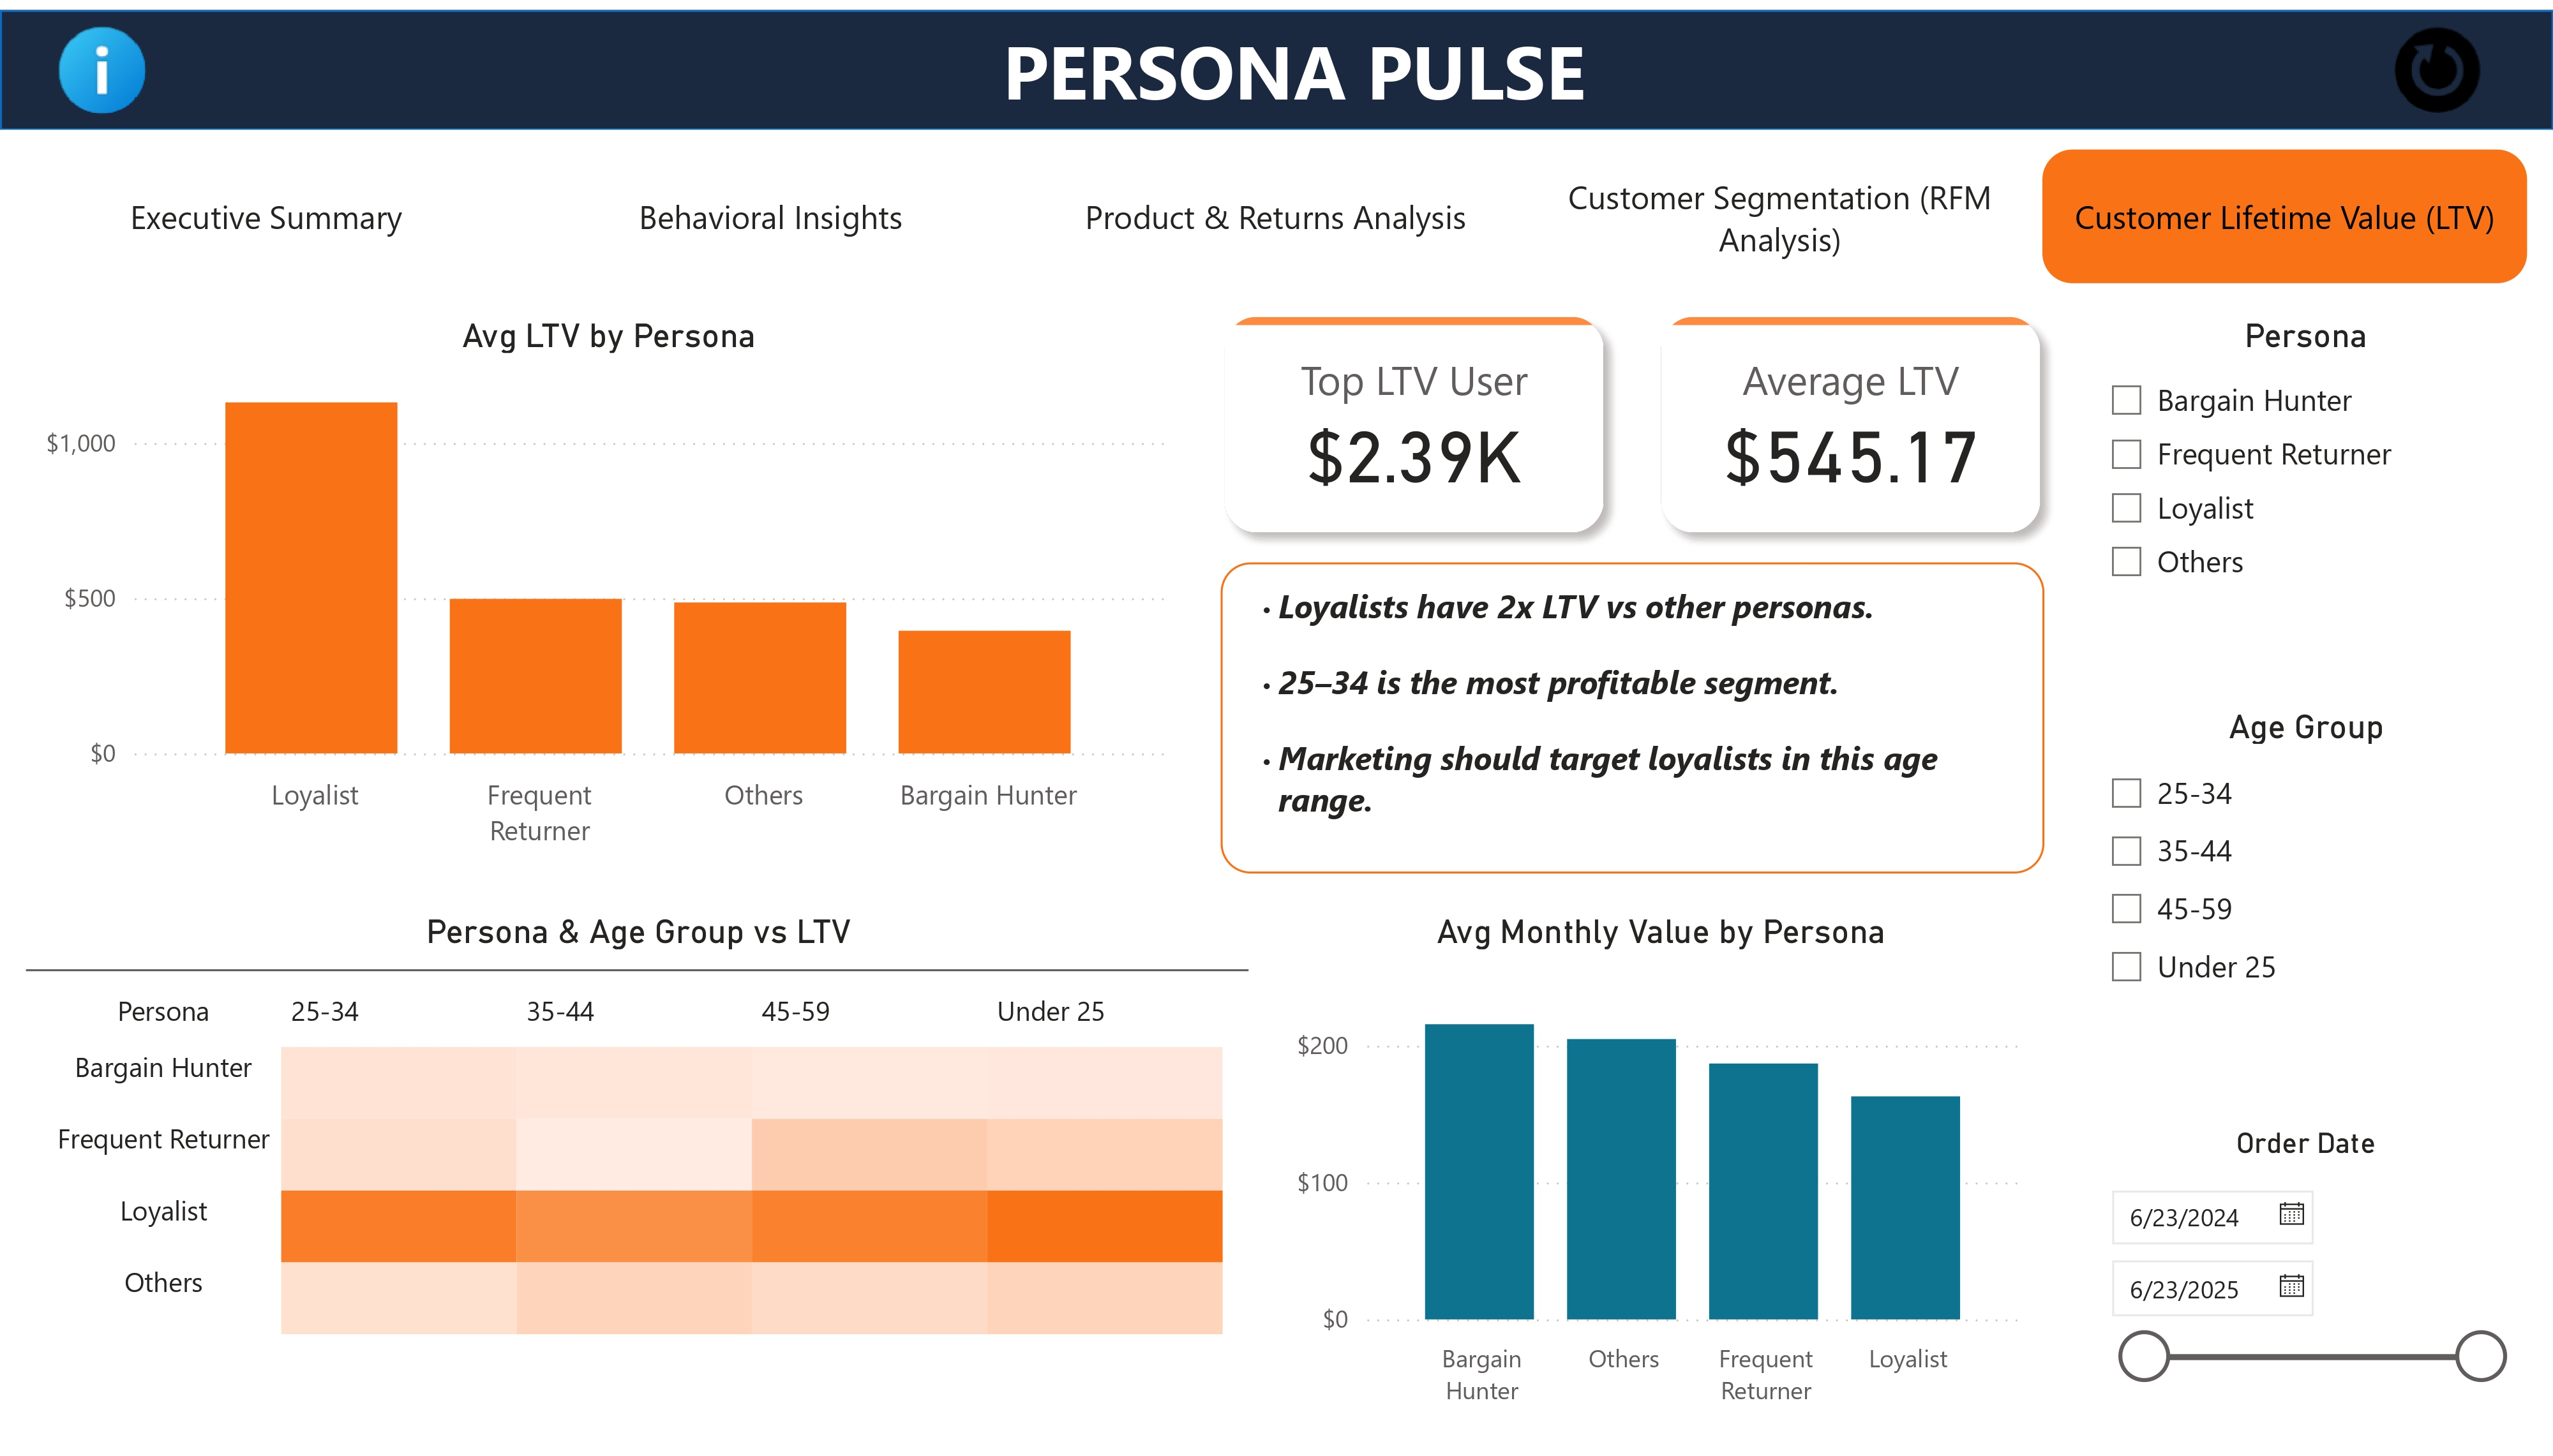

What the dashboard file says about the page in this screenshot:
{"tool":"powerbi","page":{"name":"Customer Lifetime Value (LTV)","canvas":[1280,720],"ordinal":4},"visuals":[{"type":"slicer","title":"Persona","fields":{"Values":["users.persona"]},"box":[1040.1,146.8,230.5,179.8],"z":0},{"type":"slicer","title":"Order Date","fields":{"Values":["orders.order_date"]},"box":[1040.1,554.4,230.5,159.2],"z":1000},{"type":"pivotTable","title":"Persona & Age Group vs LTV","fields":{"Rows":["users.persona"],"Columns":["users.Age Group"],"Values":["Avg(customer_ltv.lifetime_value)"]},"box":[12.3,446,614.8,267.6],"z":2000},{"type":"columnChart","title":"Avg LTV by Persona","fields":{"Category":["users.persona"],"Y":["Avg(customer_ltv.lifetime_value)"]},"box":[12.3,146.8,584.6,286.8],"z":3000},{"type":"slicer","title":"Age Group","fields":{"Values":["users.Age Group"]},"box":[1040.1,343.1,230.5,196.2],"z":4000},{"type":"cardVisual","fields":{"Data":["Max(customer_ltv.lifetime_value)","Avg(customer_ltv.lifetime_value)1"]},"box":[596.9,137.2,443.2,142.7],"z":5000},{"type":"columnChart","title":"Avg Monthly Value by Persona","fields":{"Category":["users.persona"],"Y":["Avg(customer_ltv.monthly_value)"]},"box":[639.5,446,385.6,267.6],"z":6000},{"type":"textbox","box":[612,277.2,413,156.4],"z":7000},{"type":"shape","box":[0,0,1280.3,60.4],"z":8000},{"type":"textbox","box":[374.6,0,547.5,60.4],"z":9000},{"type":"pageNavigator","box":[12.3,70,1258.3,67.2],"z":10000},{"type":"actionButton","box":[1181.5,0,82.3,60.4],"z":11000},{"type":"actionButton","box":[20.6,0,64.5,60.4],"z":11001}]}

Visuals, with their boxes in screenshot pixels (x1, y1, x2, y2), scaled from the page's 1280x720 canvas onto the 2553x1456 screenshot:
"Persona" slicer: box=[2074, 297, 2534, 660]
"Order Date" slicer: box=[2074, 1121, 2534, 1443]
"Persona & Age Group vs LTV" pivotTable: box=[24, 902, 1251, 1443]
"Avg LTV by Persona" columnChart: box=[24, 297, 1190, 877]
"Age Group" slicer: box=[2074, 694, 2534, 1090]
cardVisual - Max(customer_ltv.lifetime_value) x Avg(customer_ltv.lifetime_value)1: box=[1190, 278, 2074, 566]
"Avg Monthly Value by Persona" columnChart: box=[1275, 902, 2044, 1443]
textbox: box=[1220, 561, 2044, 877]
shape: box=[0, 0, 2552, 122]
textbox: box=[747, 0, 1839, 122]
pageNavigator: box=[24, 142, 2534, 278]
actionButton: box=[2356, 0, 2520, 122]
actionButton: box=[41, 0, 170, 122]
